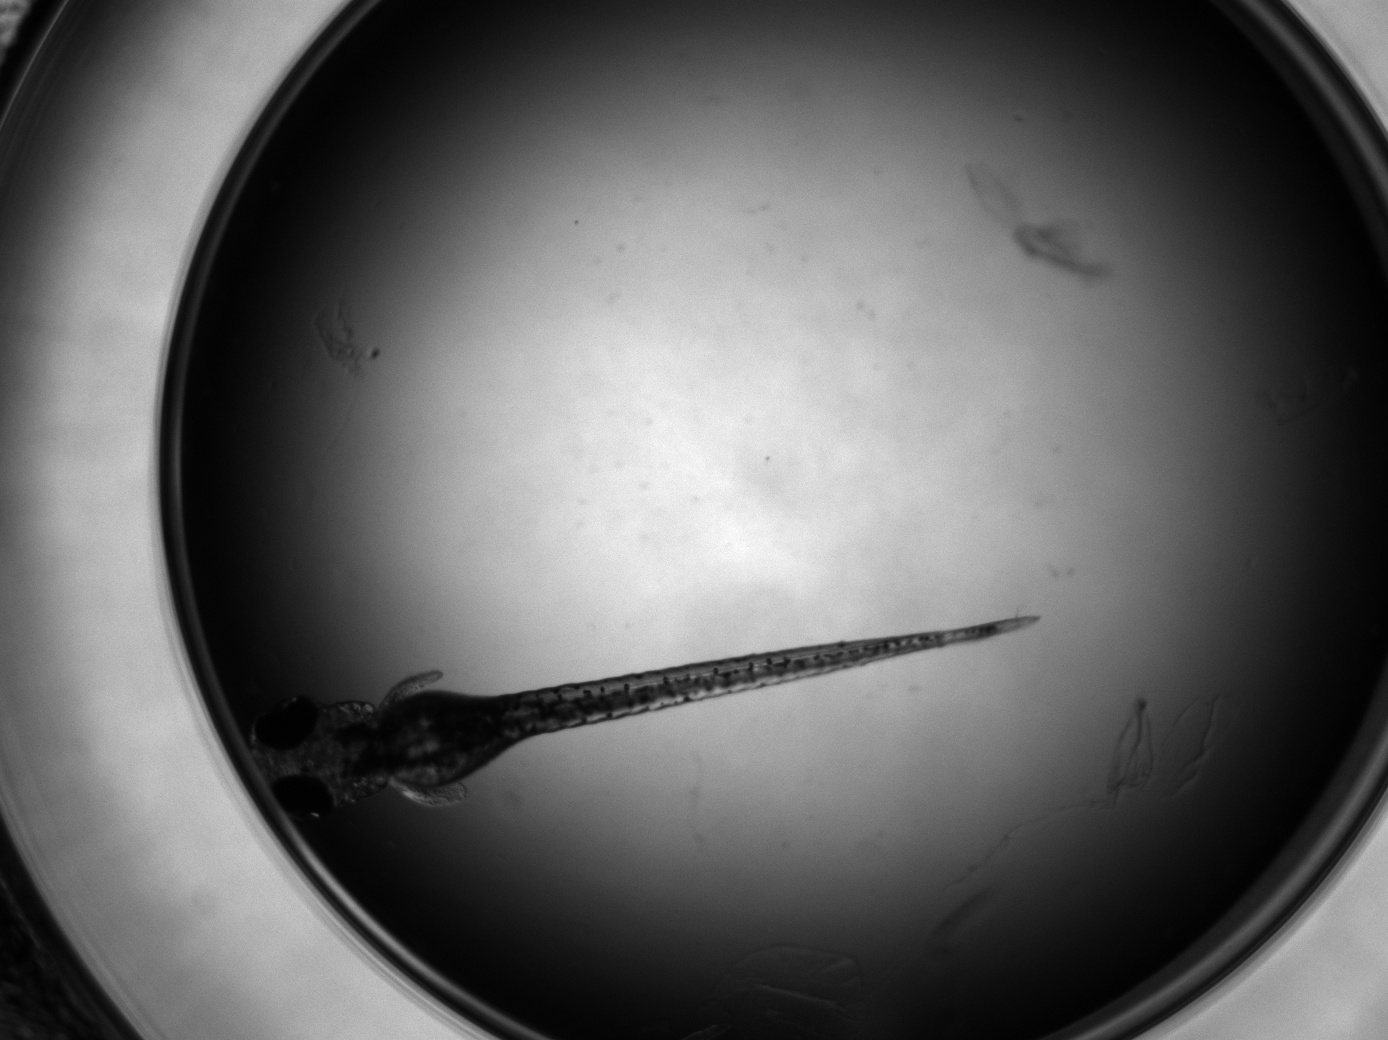embryo: (248, 615, 1042, 819)
eye: (254, 696, 318, 751), (272, 775, 333, 819)
yolksac: (379, 690, 493, 787)
